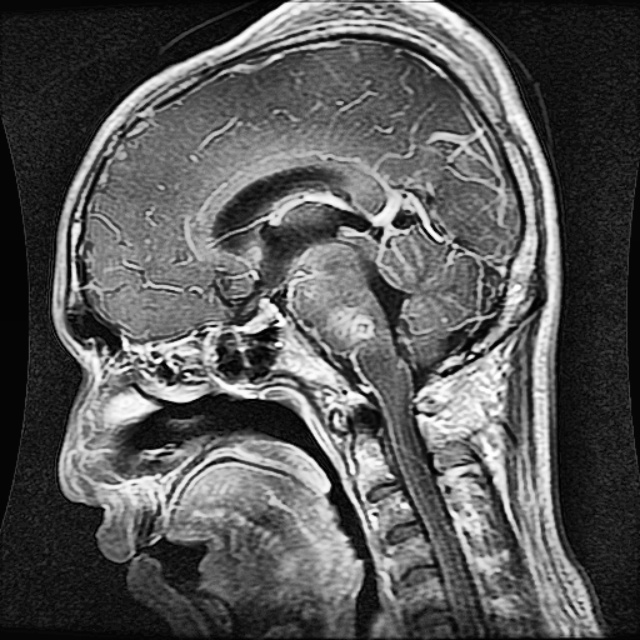Meningioma: (329, 307, 373, 345)
